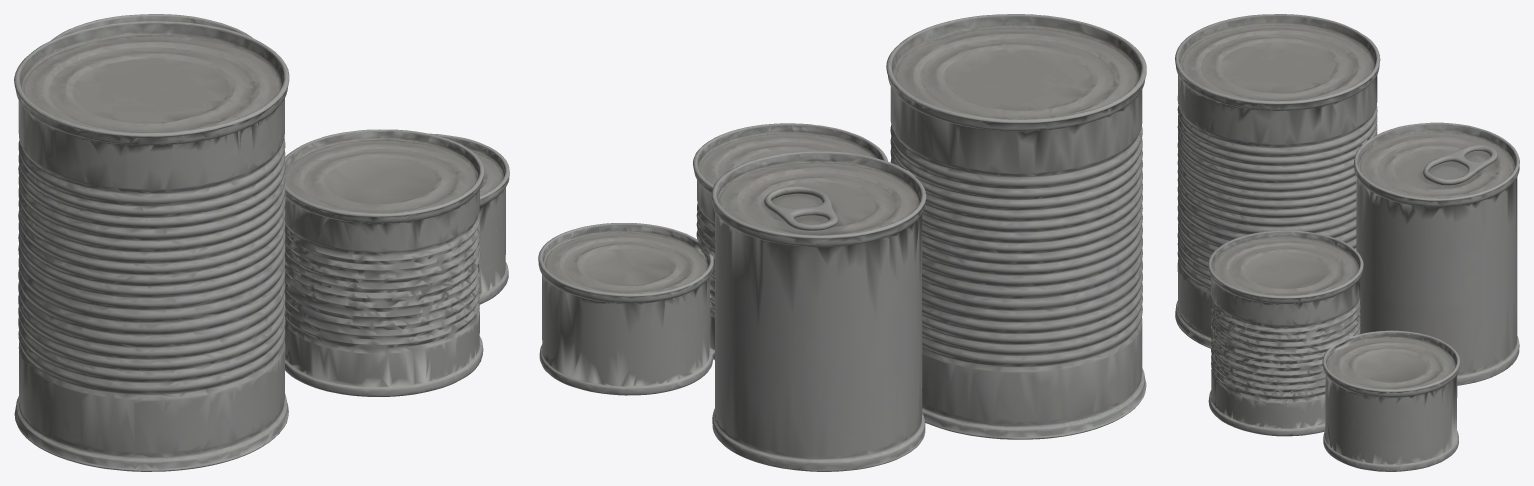
The model's file is conserva.glb.
3 views of the same model, side by side, from view 1: azimuth 30°, elevation 25°; view 2: azimuth 150°, elevation 25°; view 3: azimuth 270°, elevation 25° (orthographic). The views are drawn at different scales.
Visible parts, largest first — view 1: tripo_node_32128857-b599-4a24-8f21-eef3378916b1; view 2: tripo_node_32128857-b599-4a24-8f21-eef3378916b1; view 3: tripo_node_32128857-b599-4a24-8f21-eef3378916b1.
Boxes of the visible parts, x1=… form: tripo_node_32128857-b599-4a24-8f21-eef3378916b1: x1=14, y1=14, x2=509, y2=471; tripo_node_32128857-b599-4a24-8f21-eef3378916b1: x1=538, y1=14, x2=1146, y2=471; tripo_node_32128857-b599-4a24-8f21-eef3378916b1: x1=1175, y1=14, x2=1519, y2=471.
Bounding box in the file's own units: 0.9999 × 0.5996 × 0.724.
1 material, 1 textured.
